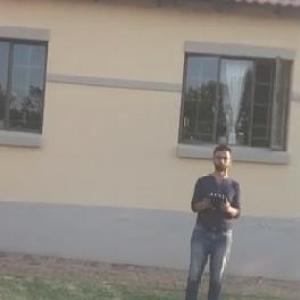follow: (176, 140, 246, 299)
